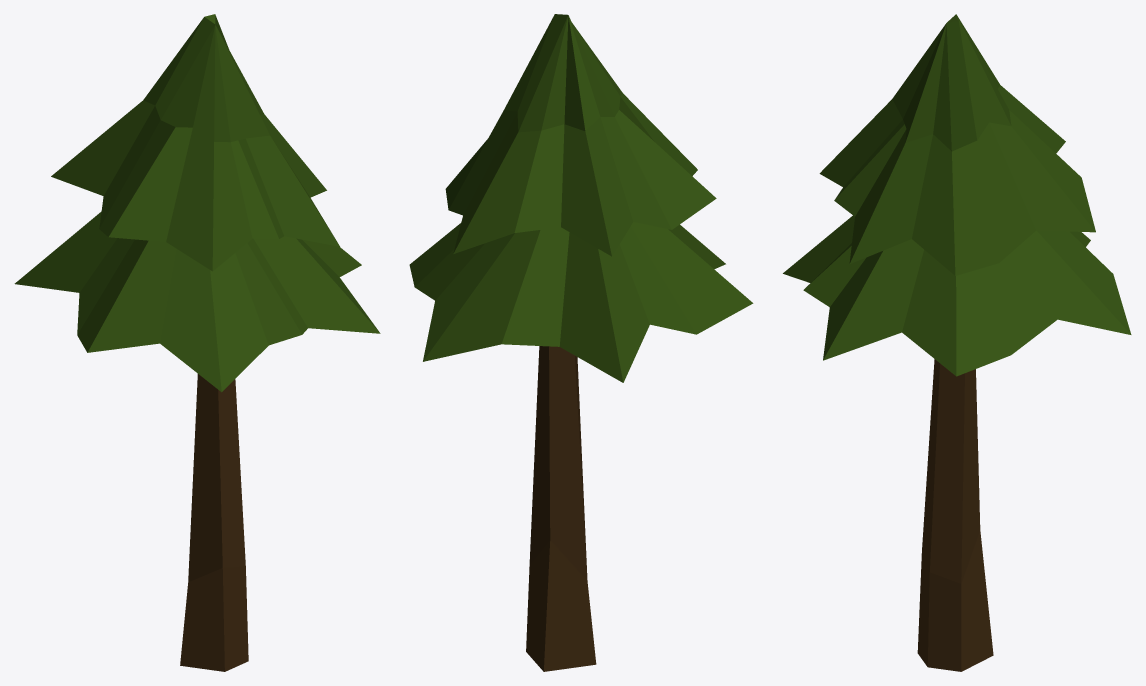
File: Tree_5.glb
3 views of the same model, side by side, from view 1: azimuth 30°, elevation 25°; view 2: azimuth 150°, elevation 25°; view 3: azimuth 270°, elevation 25° (orthographic).
Visible parts, largest first — view 1: Tree_05; view 2: Tree_05; view 3: Tree_05.
Boxes of the visible parts, x1,y1,x2,y2 form: Tree_05: (14, 14, 380, 671); Tree_05: (409, 14, 753, 671); Tree_05: (783, 14, 1131, 671).
Bounding box in the file's own units: 1.04 × 2.06 × 1.02.
